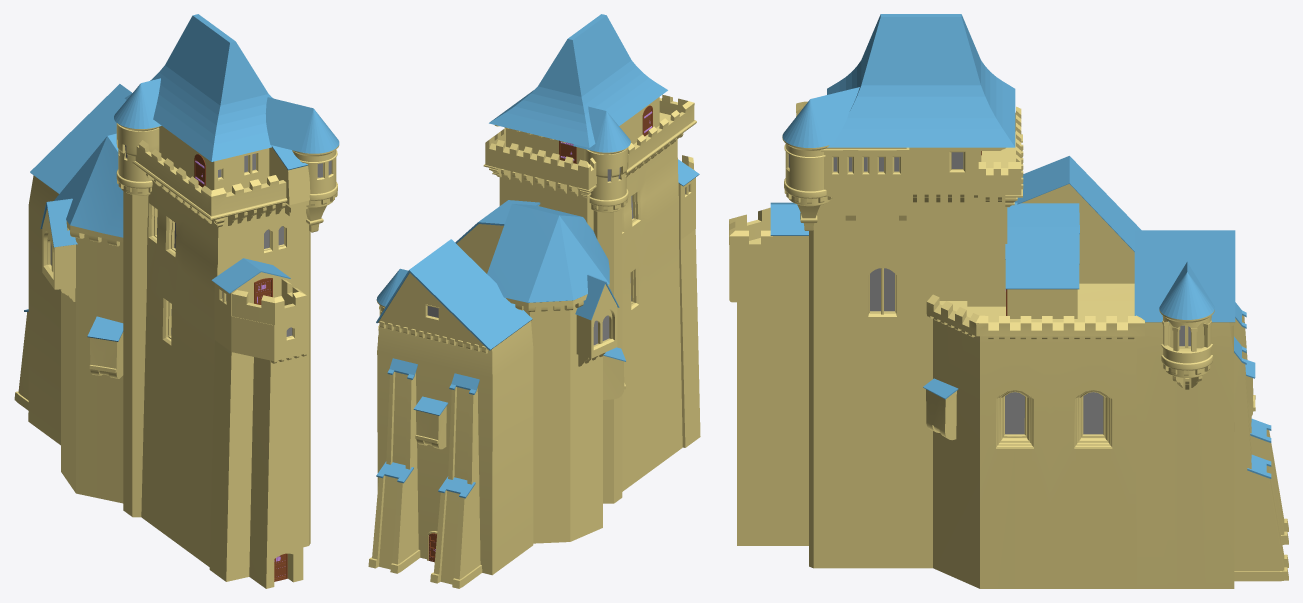
File: fangzi5.FBX
The picture shows the model from 3 angles, left to right: view 1: azimuth 30°, elevation 25°; view 2: azimuth 150°, elevation 25°; view 3: azimuth 270°, elevation 25°; orthographic projection. The views are drawn at different scales.
Visible parts, largest first — view 1: CastleMD_Stone_Blocks, CastleMD_RoofTiles, CastleMD_WoodDark, CastleMD_Glass; view 2: CastleMD_Stone_Blocks, CastleMD_RoofTiles, CastleMD_WoodDark, CastleMD_Glass; view 3: CastleMD_Stone_Blocks, CastleMD_RoofTiles, CastleMD_Glass.
Boxes of the visible parts, left/top/right/bottom form: CastleMD_Stone_Blocks: left=14, top=123, right=339, bottom=588; CastleMD_RoofTiles: left=24, top=14, right=339, bottom=341; CastleMD_WoodDark: left=194, top=154, right=287, bottom=581; CastleMD_Glass: left=50, top=145, right=331, bottom=336; CastleMD_Stone_Blocks: left=368, top=94, right=700, bottom=588; CastleMD_RoofTiles: left=376, top=14, right=699, bottom=498; CastleMD_WoodDark: left=428, top=105, right=652, bottom=562; CastleMD_Glass: left=427, top=167, right=688, bottom=345; CastleMD_Stone_Blocks: left=729, top=101, right=1288, bottom=588; CastleMD_RoofTiles: left=770, top=14, right=1271, bottom=478; CastleMD_Glass: left=788, top=152, right=1190, bottom=434.
Bounding box in the file's own units: 26.28 × 60.43 × 57.97.
